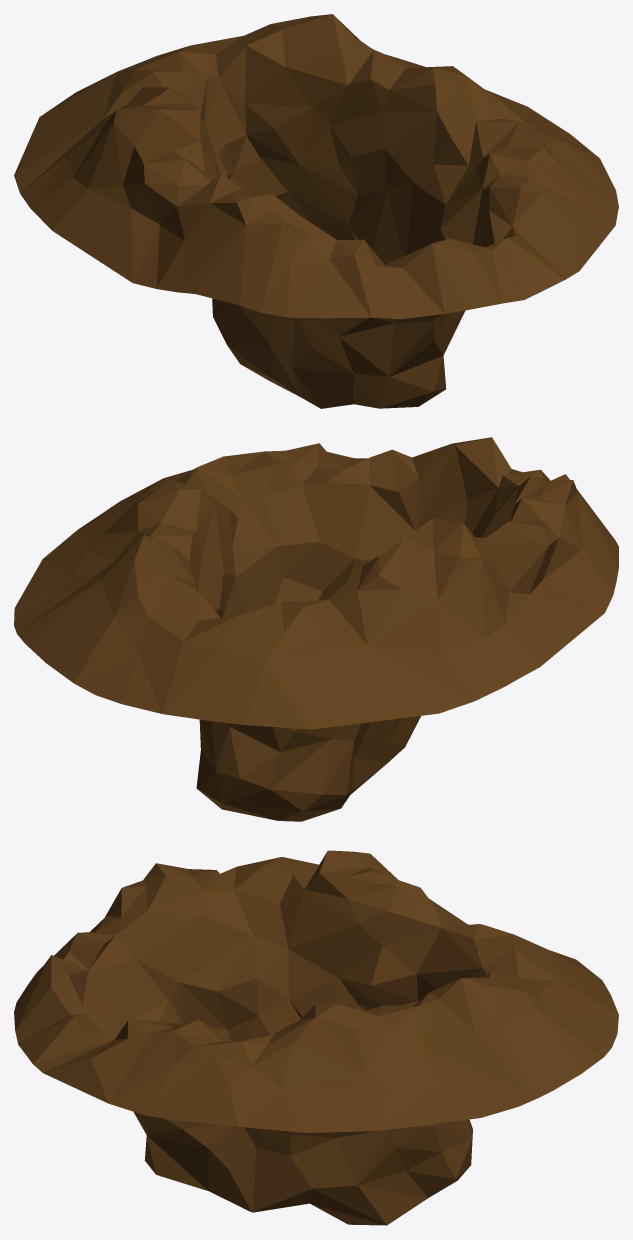
The model's file is dirthole.fbx.
3 views of the same model, one above another, from view 1: azimuth 30°, elevation 25°; view 2: azimuth 150°, elevation 25°; view 3: azimuth 270°, elevation 25° (orthographic). The views are drawn at different scales.
Visible parts, largest first — view 1: dirthole; view 2: dirthole; view 3: dirthole.
Boxes of the visible parts, bbox=[...] form: dirthole: bbox=[14, 14, 618, 408]; dirthole: bbox=[14, 437, 618, 821]; dirthole: bbox=[14, 850, 618, 1225].
Size of the model in its own units: 3.15 by 1.9 by 3.67.
